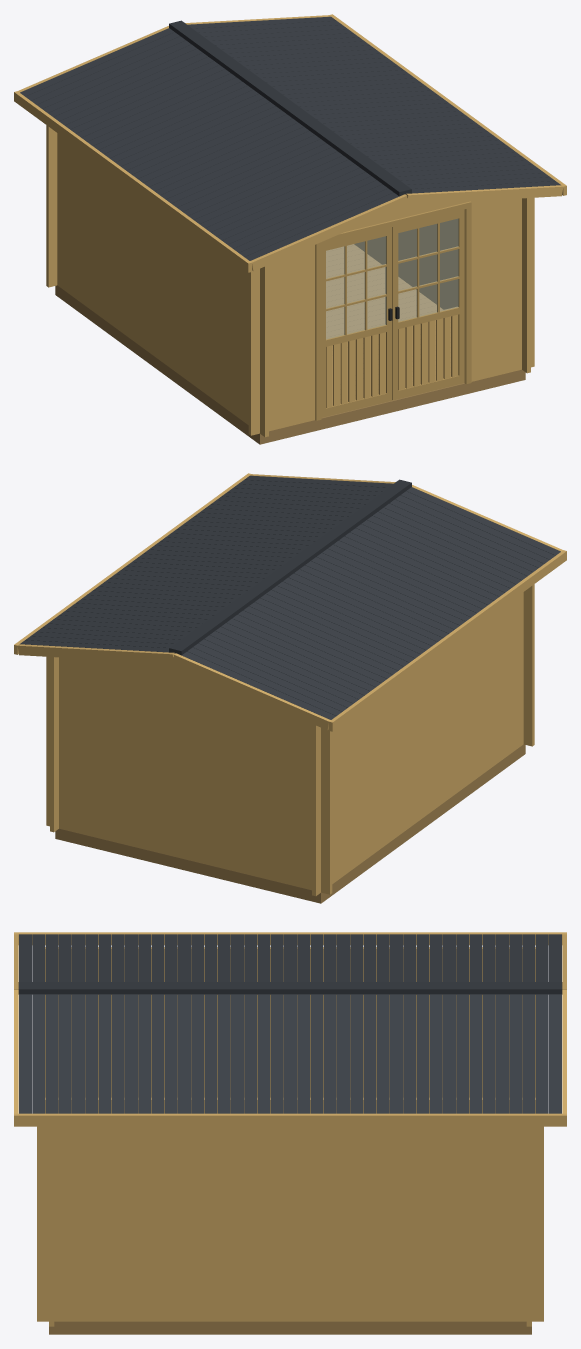
The model's file is пегас_3_4.glb.
3 renders of one model, top to bottom at view 1: azimuth 30°, elevation 25°; view 2: azimuth 150°, elevation 25°; view 3: azimuth 270°, elevation 25°, orthographic. The views are drawn at different scales.
Visible parts, largest first — view 1: roof, walls, floor, house, object 15, object 33, object 21, object 41, object 40, object 3, object 20, object 42 (+6 smaller); view 2: walls, roof, house; view 3: roof, walls, house.
Part boxes in pixels (x1,y1,x2,y2): roof: [14, 14, 566, 272]; walls: [46, 125, 534, 437]; floor: [326, 244, 450, 404]; house: [55, 285, 525, 444]; object 15: [326, 236, 385, 339]; object 33: [398, 219, 458, 321]; object 21: [457, 209, 464, 384]; object 41: [465, 201, 471, 384]; object 40: [315, 242, 321, 420]; object 3: [385, 227, 392, 401]; object 20: [392, 225, 398, 400]; object 42: [316, 202, 471, 244]; walls: [46, 584, 534, 896]; roof: [14, 473, 566, 731]; house: [55, 744, 525, 903]; roof: [14, 932, 566, 1126]; walls: [37, 947, 543, 1326]; house: [49, 1321, 531, 1334].
Size of the model in its own units: 3.59 by 2.49 by 4.58.
